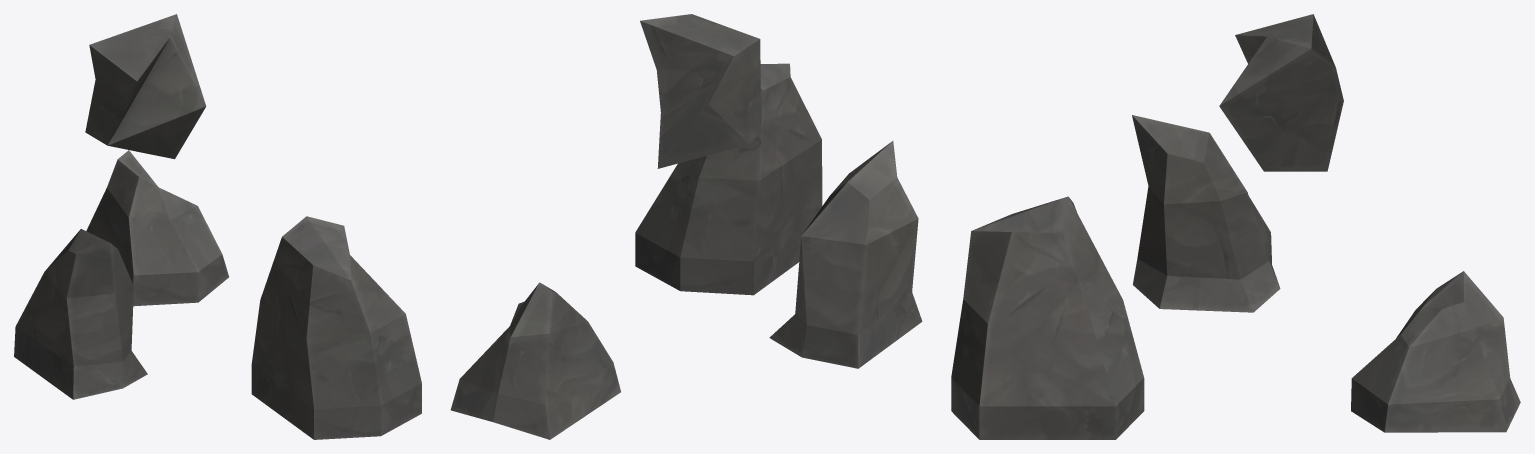
Rendered from RocksTextured.obj.
3 views of the same model, side by side, from view 1: azimuth 30°, elevation 25°; view 2: azimuth 150°, elevation 25°; view 3: azimuth 270°, elevation 25° (orthographic). The views are drawn at different scales.
Visible parts, largest first — view 1: Rock, Rock.Safekeep, Cube, Rock.001; view 2: Rock, Rock.Safekeep, Rock.001, Cube; view 3: Rock, Rock.Safekeep, Rock.001, Cube.
Part boxes in pixels (left/top/right/bottom): Rock: left=251, top=216, right=421, bottom=439; Rock.Safekeep: left=14, top=229, right=147, bottom=399; Cube: left=85, top=14, right=206, bottom=159; Rock.001: left=86, top=150, right=228, bottom=306; Rock: left=635, top=63, right=822, bottom=295; Rock.Safekeep: left=769, top=141, right=922, bottom=368; Rock.001: left=450, top=282, right=620, bottom=439; Cube: left=640, top=14, right=760, bottom=168; Rock: left=951, top=196, right=1144, bottom=439; Rock.Safekeep: left=1132, top=115, right=1280, bottom=312; Rock.001: left=1351, top=271, right=1520, bottom=432; Cube: left=1219, top=14, right=1343, bottom=171.
Bounding box in the file's own units: 4.36 × 4.71 × 7.13.
Materials: 1 (1 with a texture image).
